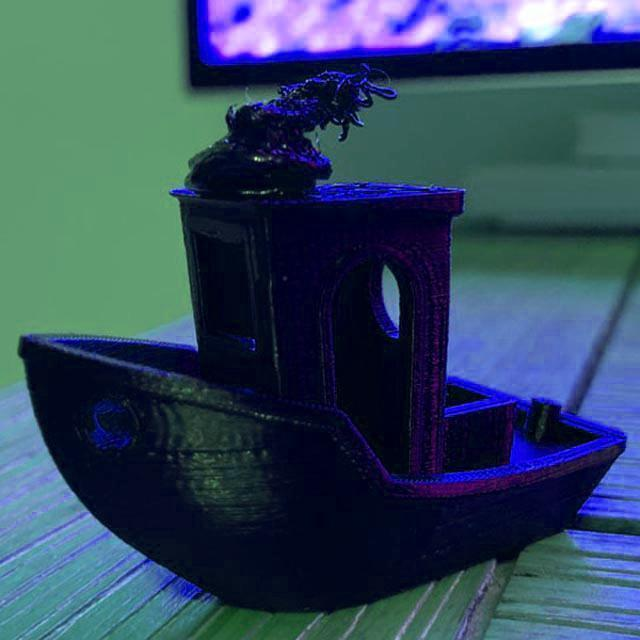spaghetti: (276, 62, 401, 145)
